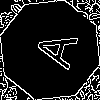A: (25, 25, 78, 70)
